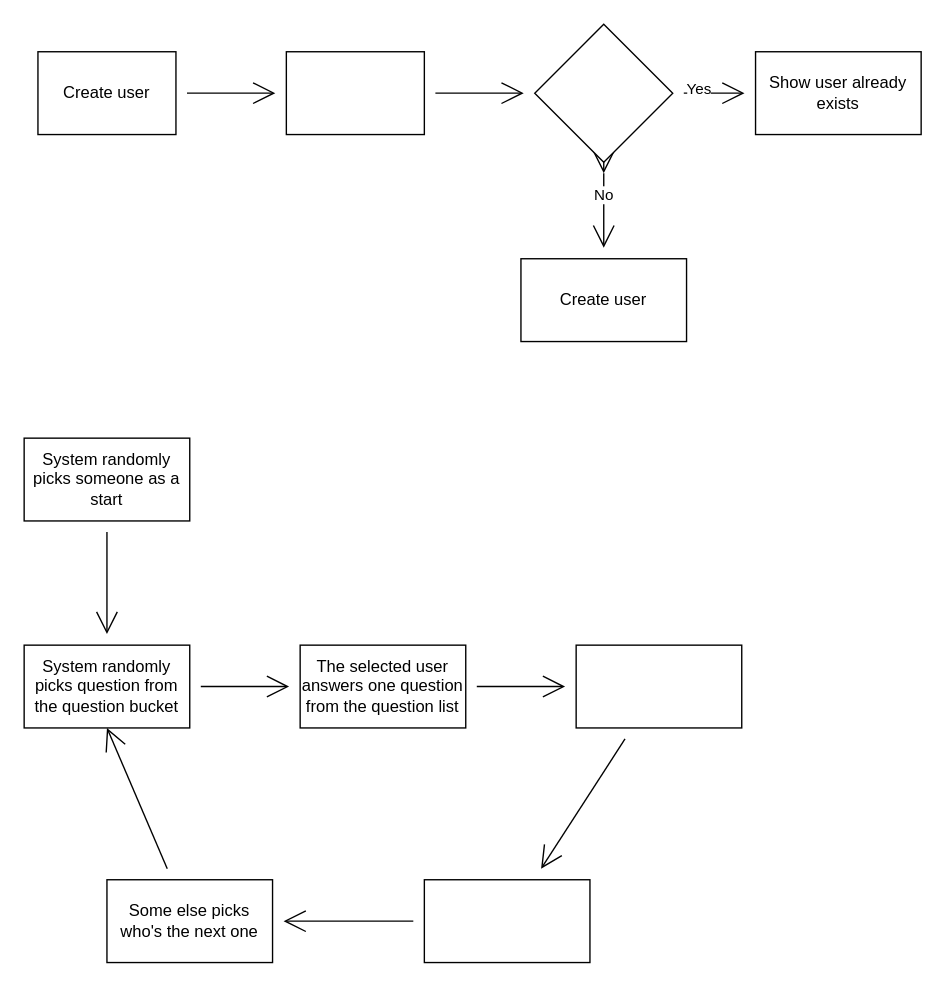
Some shapes in this 945 by 987 pixel diagram are drawn without their labels. Here are the shapes that lost their labels. From the top down, the centre of each, then its label:
point (354, 92): Enter username
point (603, 92): Check if user exists
point (658, 686): The other users guess the selected user's answer
point (506, 920): User gets point if they answer correctly
